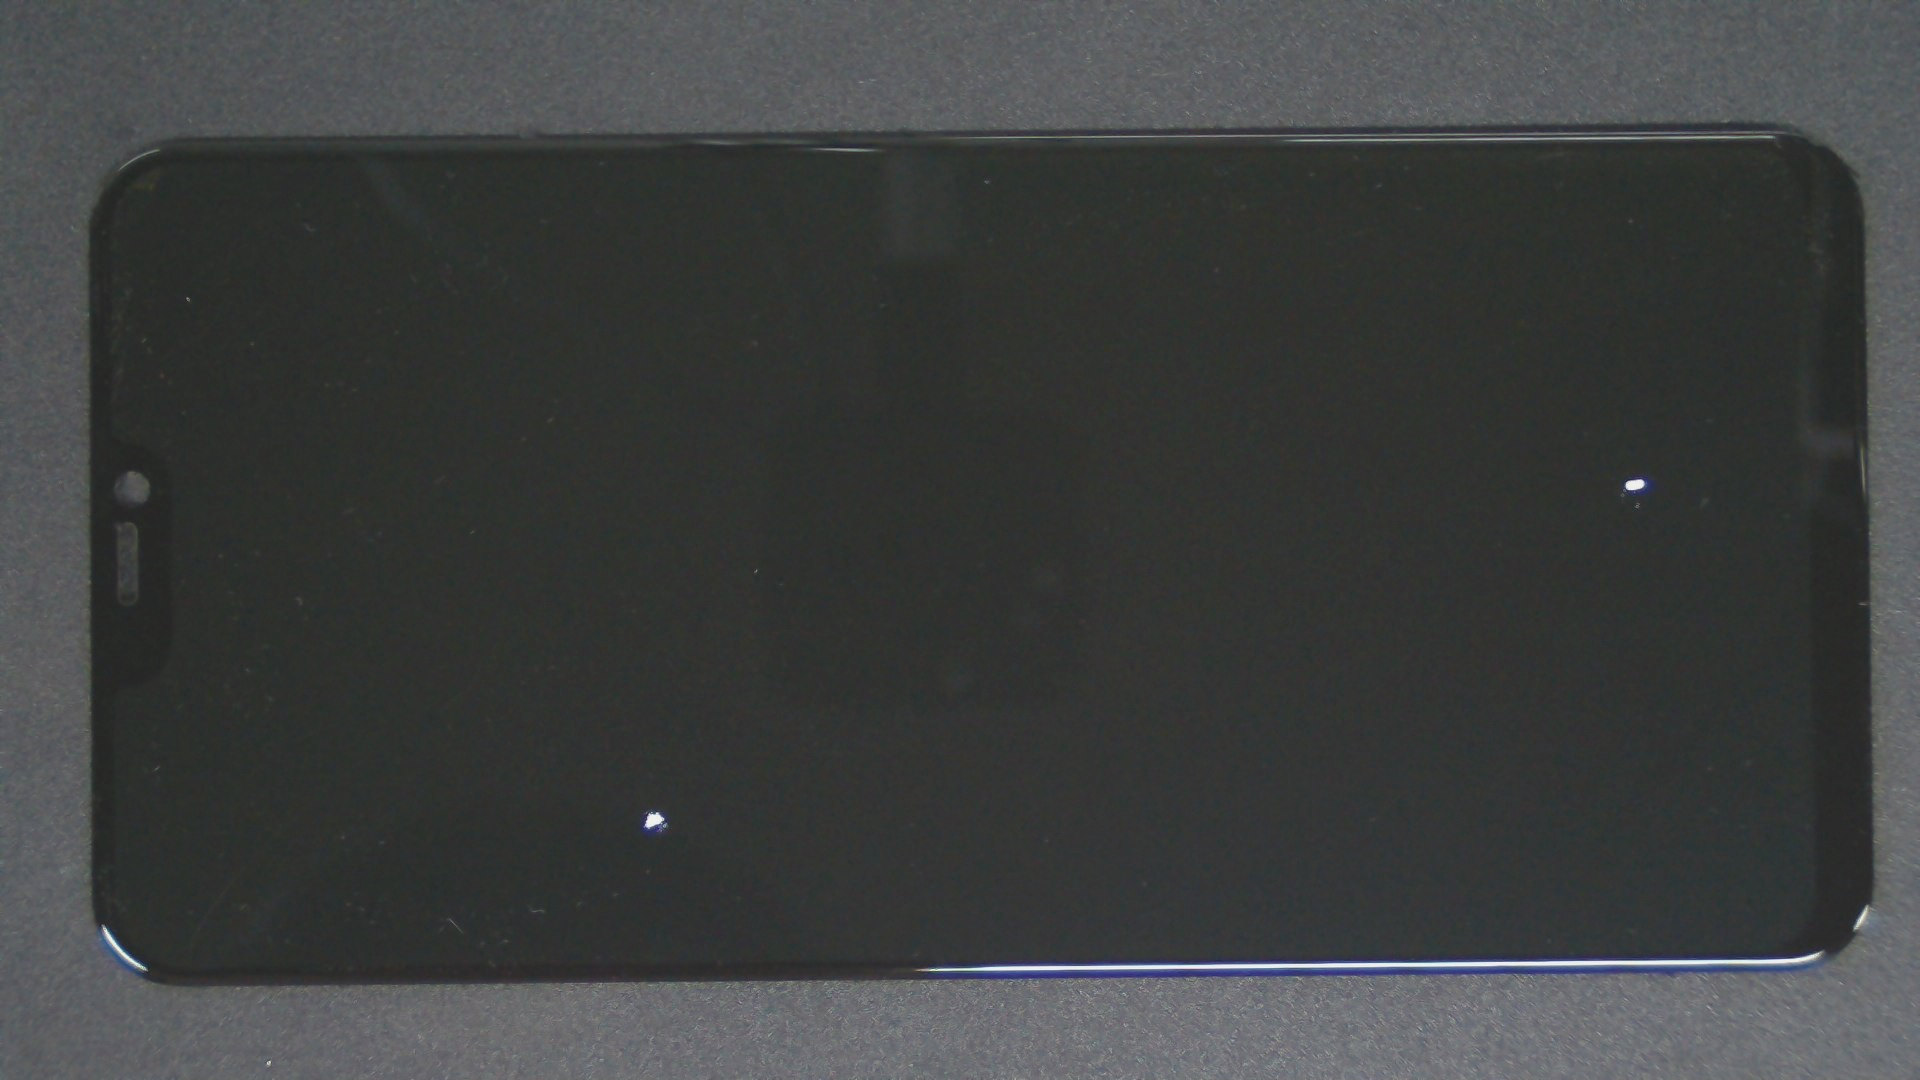oil: (822, 237, 1920, 716), (330, 404, 988, 1080)
